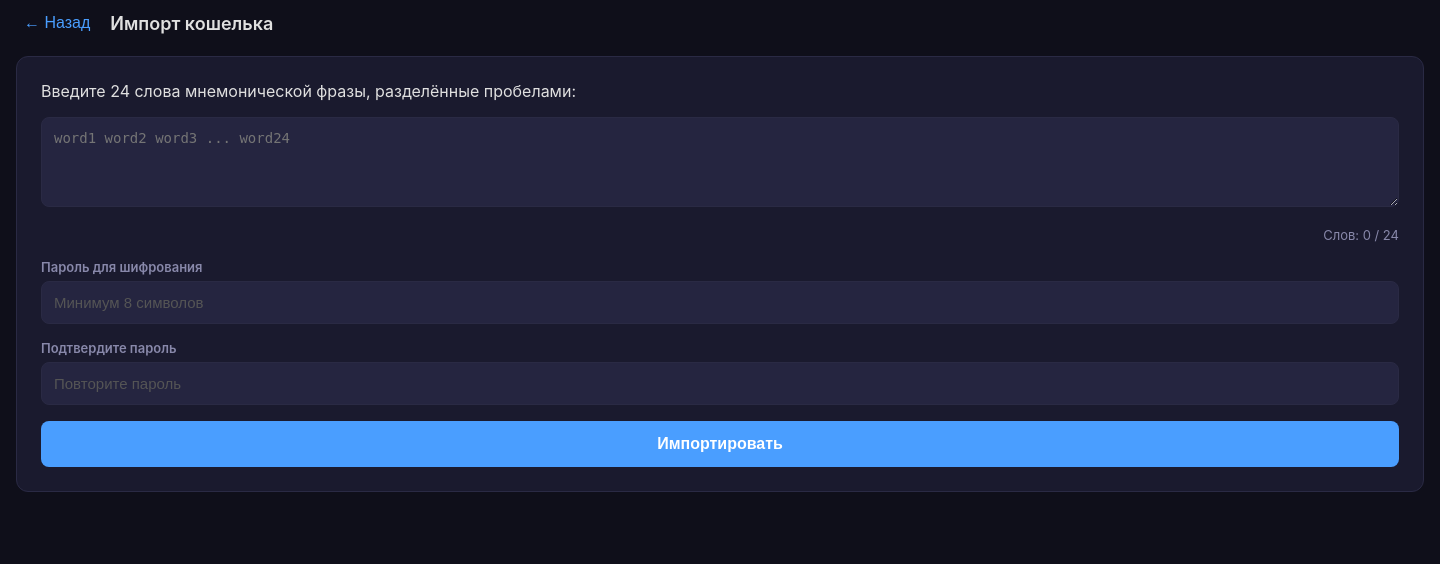
Test: ImportWallet › shows error when word count is not 24
This screenshot has width=1440, height=564.
Type "one two three" into the text box with placeholder "word1 word2 word3 ... word24" at (720, 162), box [41,117,1399,207]
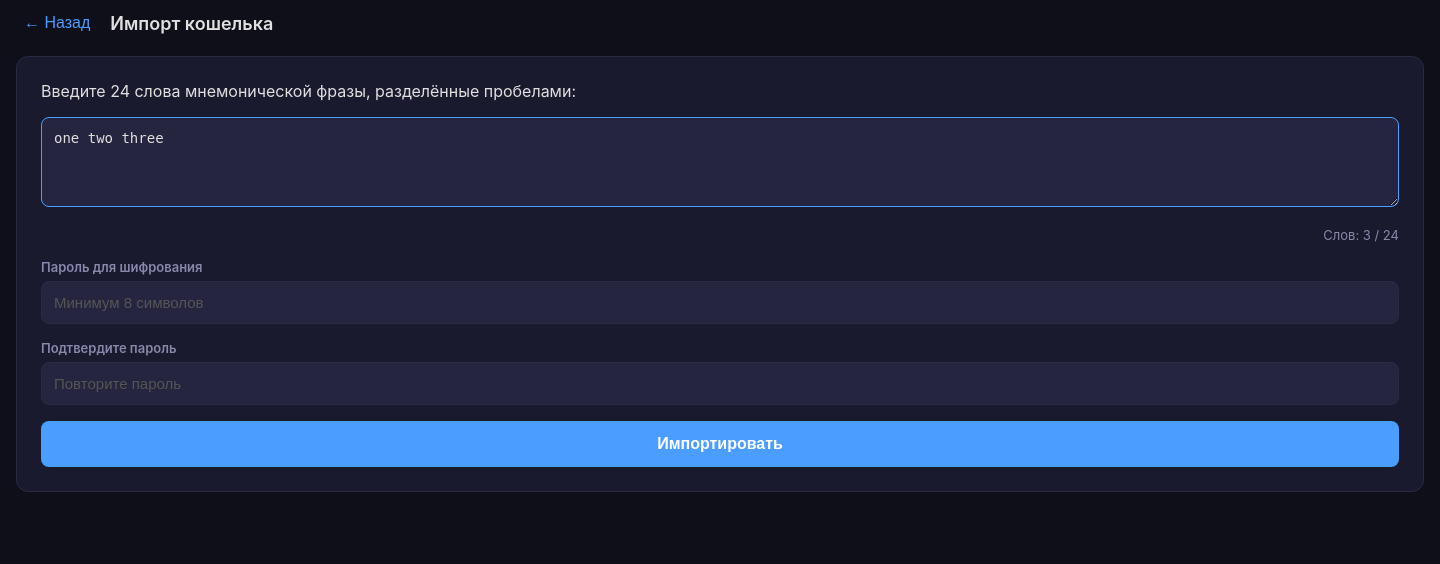
Click the button "Импортировать" at (720, 444), box [41,421,1399,467]
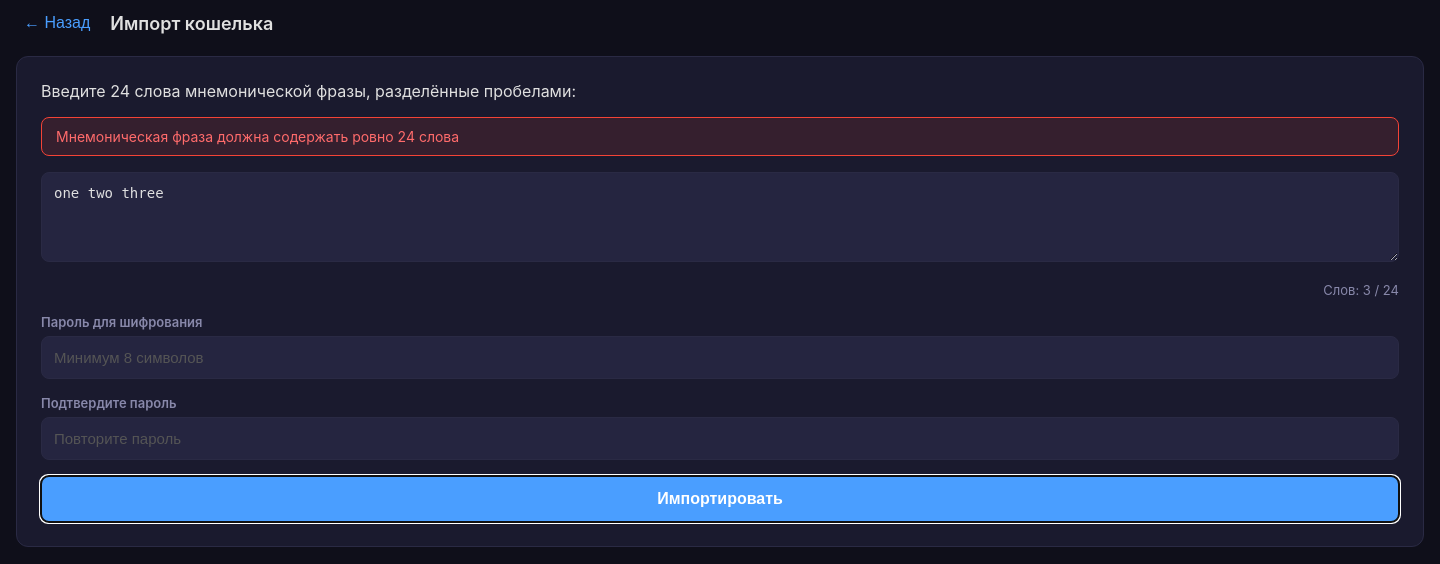
Check: the text "Мнемоническая фраза должна содержать ровно 24 слова" is shown, box [41,117,1399,156]
